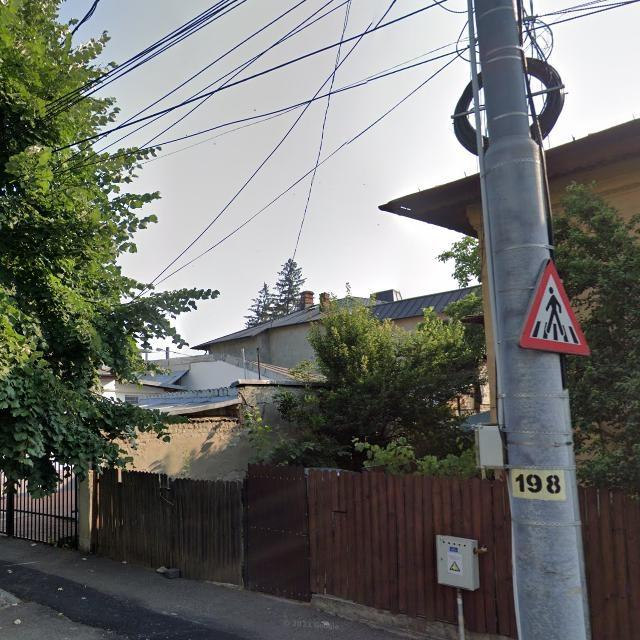warn_crosswalk: (516, 256, 594, 356)
